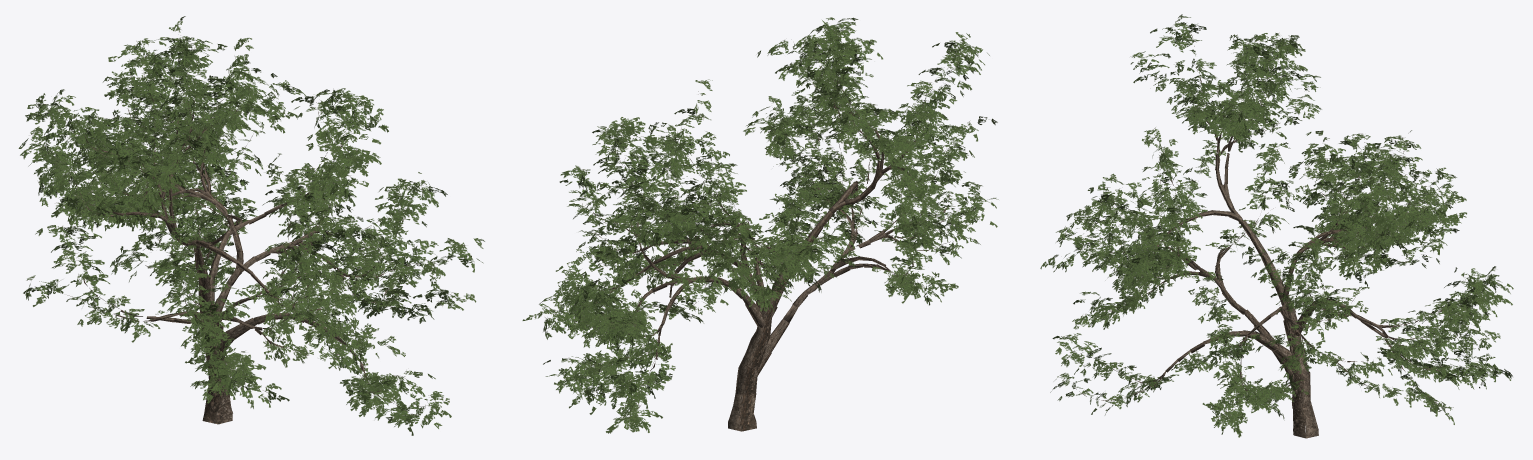
File: liveoak_b.glb
The picture shows the model from 3 angles, left to right: view 1: azimuth 30°, elevation 25°; view 2: azimuth 150°, elevation 25°; view 3: azimuth 270°, elevation 25°; orthographic projection. The views are drawn at different scales.
Parts seen in each view (by area): view 1: foliage.001_w; view 2: foliage.001_w; view 3: foliage.001_w.
Boxes of the visible parts, x1,y1,x2,y2 form: foliage.001_w: (18,16,484,435); foliage.001_w: (522,17,998,433); foliage.001_w: (1040,14,1513,438).
Bounding box in the file's own units: 13.62 × 12.04 × 14.48.
2 materials, 2 textured.
